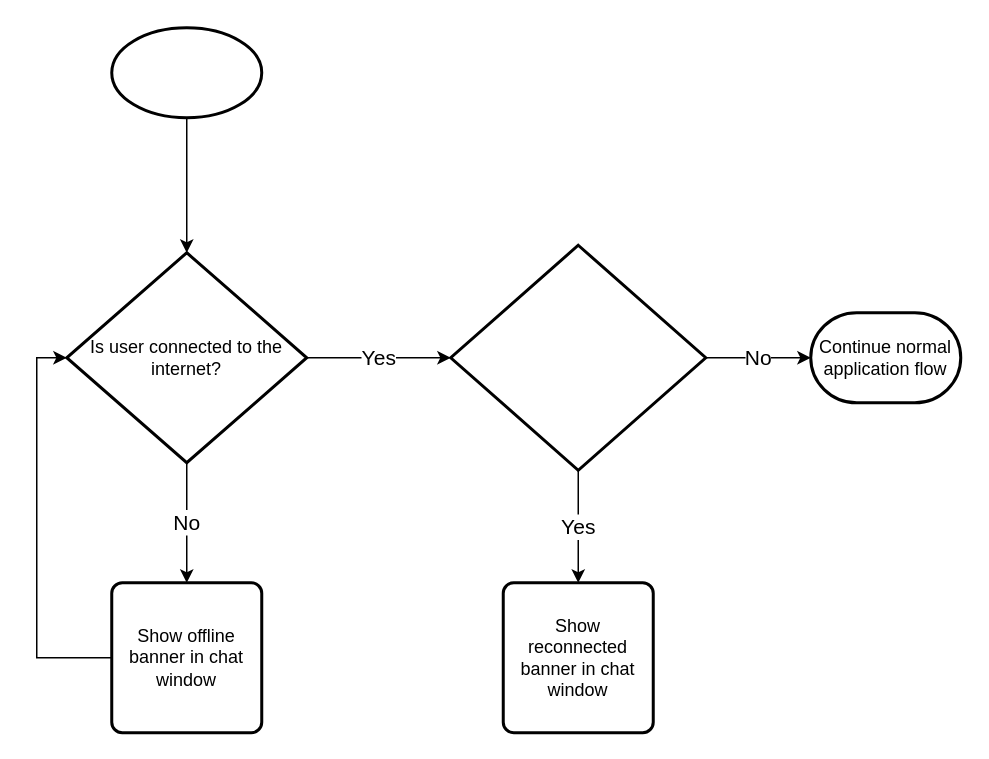
Image size: 989x759. Some labels were removed from this diagram. The centre of each missing label's shape, as x and y in pixels:
"App is ready" belongs at point 186,72.
"Has the user previously been disconnected in this session?" belongs at point 577,357.
